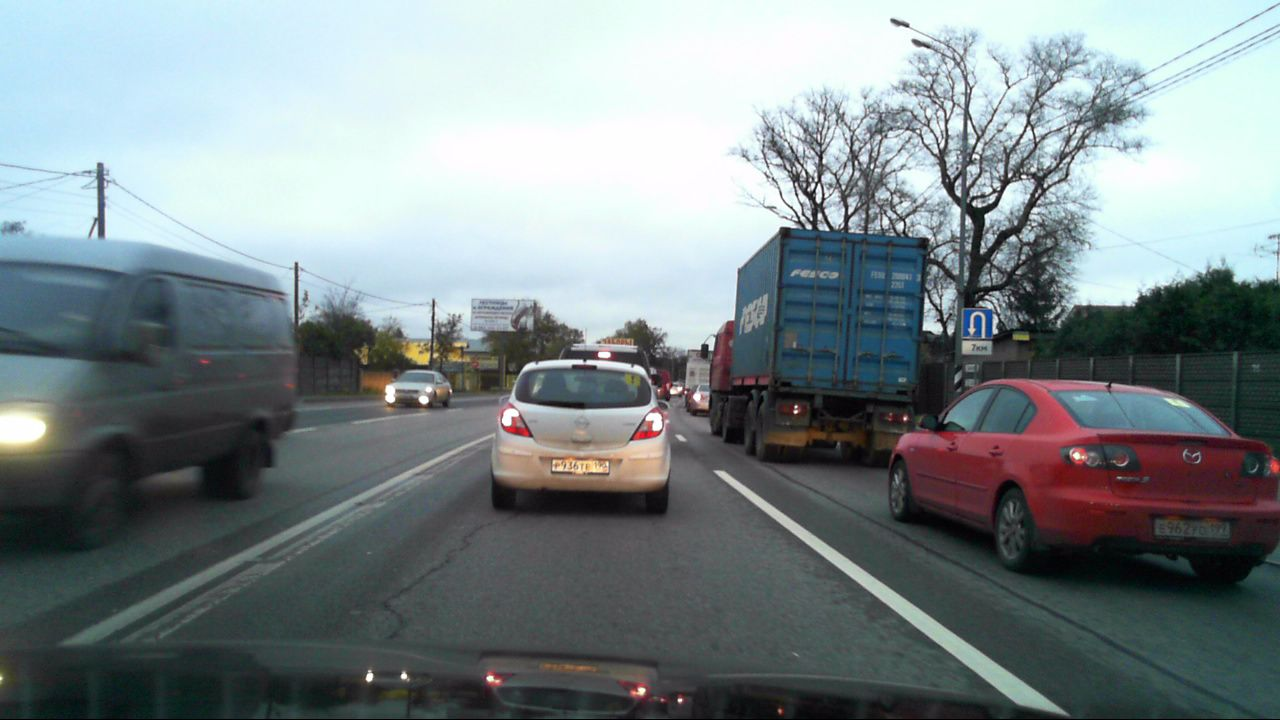U-turn: (962, 308, 992, 340)
